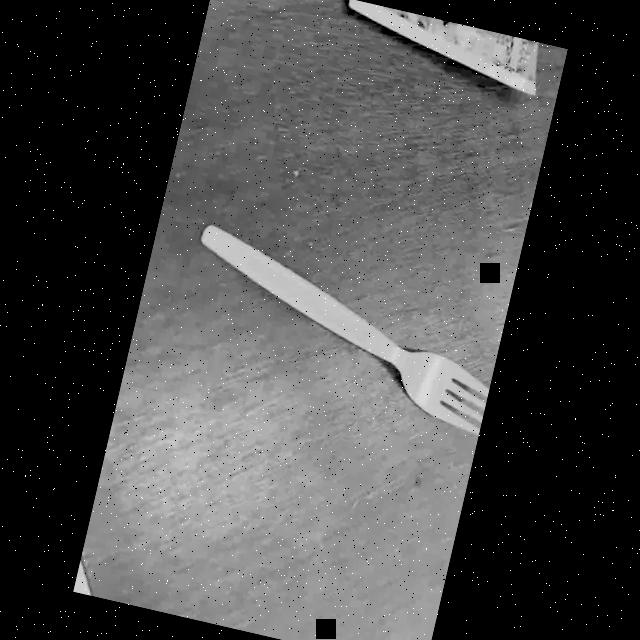plastic_cultery: (170, 222, 511, 436)
